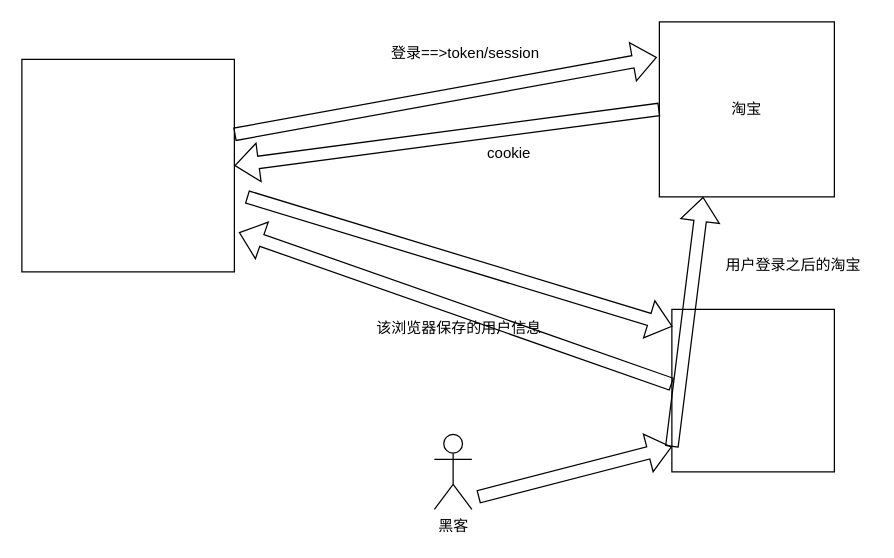
This 894x558 diagram has some shape labels left out. Each missing label, with the centre of its shape:
浏览器: the point at 127,165
黑客做的网站: the point at 752,390
